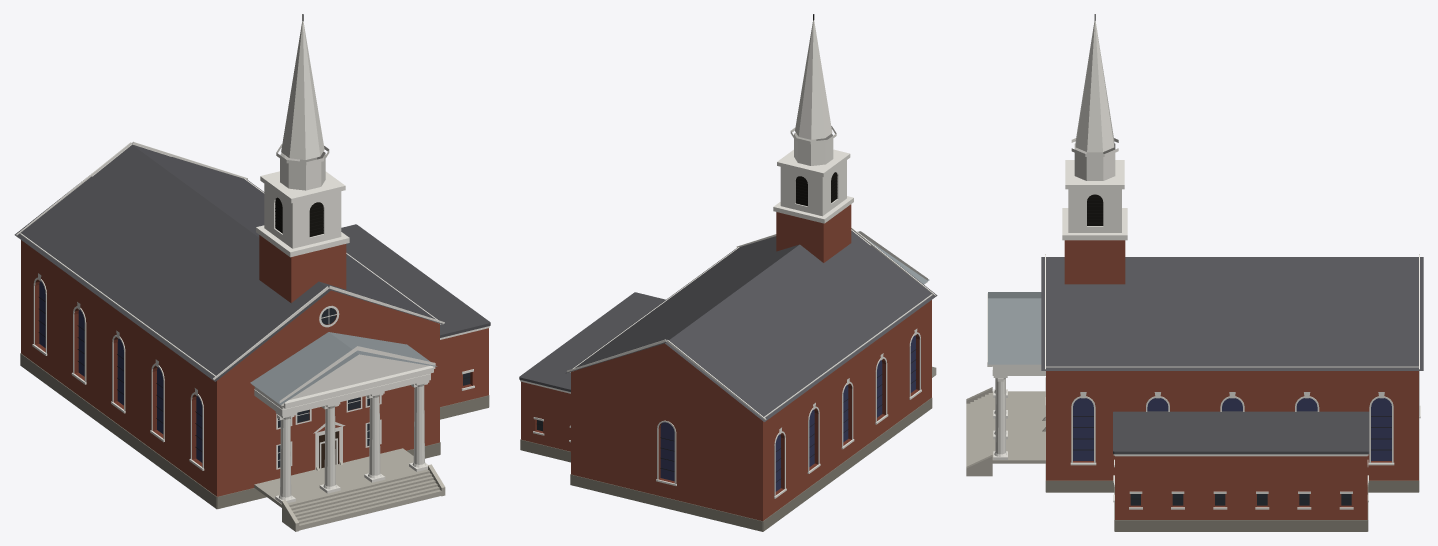
File: ch-pulaski-heights-baptist-1961.glb
3 renders of one model, left to right at view 1: azimuth 30°, elevation 25°; view 2: azimuth 150°, elevation 25°; view 3: azimuth 270°, elevation 25°, orthographic. The views are drawn at different scales.
Parts seen in each view (by area): view 1: ch_brick, ch_roof, ch_trim, ch_conc, ch_roof2, ch_base, ch_stain, ch_brick2, ch_glass, ch_shadow; view 2: ch_brick, ch_roof, ch_trim, ch_base, ch_stain, ch_brick2, ch_shadow; view 3: ch_roof, ch_brick, ch_trim, ch_conc, ch_base, ch_roof2, ch_stain, ch_glass.
Part boxes in pixels (x1,y1,x2,y2): ch_brick: (21, 235, 488, 496); ch_roof: (14, 144, 490, 381); ch_trim: (16, 21, 489, 503); ch_conc: (254, 448, 445, 531); ch_roof2: (250, 332, 437, 405); ch_base: (20, 353, 489, 509); ch_stain: (39, 281, 202, 462); ch_brick2: (35, 279, 472, 466); ch_glass: (278, 308, 470, 467); ch_shadow: (275, 197, 323, 236); ch_brick: (521, 204, 931, 521); ch_roof: (519, 230, 937, 421); ch_trim: (520, 20, 935, 498); ch_base: (520, 398, 932, 531); ch_stain: (660, 335, 915, 491); ch_brick2: (535, 334, 919, 495); ch_shadow: (795, 172, 837, 206); ch_roof: (1041, 257, 1423, 454); ch_brick: (1046, 240, 1418, 519); ch_trim: (987, 20, 1420, 509); ch_conc: (966, 387, 1045, 476); ch_base: (1045, 377, 1419, 531); ch_roof2: (988, 292, 1041, 364); ch_stain: (1073, 398, 1391, 460); ch_glass: (1130, 494, 1351, 505).
Size of the model in its own units: 29.55 by 40.5 by 39.24.
